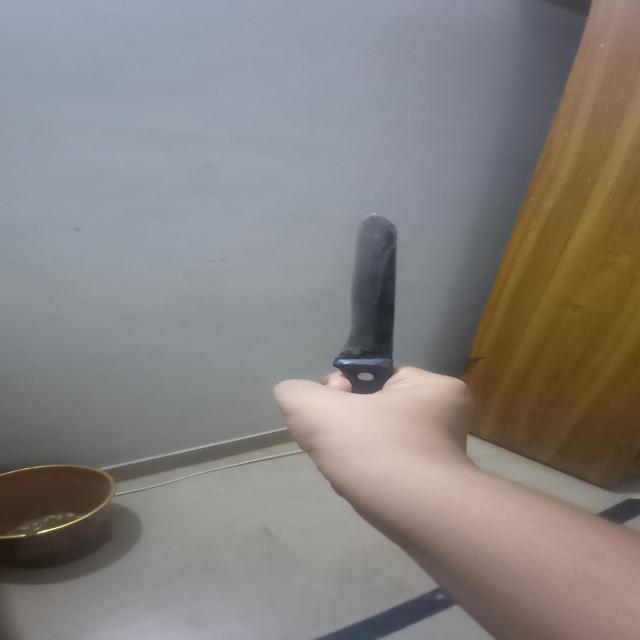Knife: (309, 210, 448, 391)
